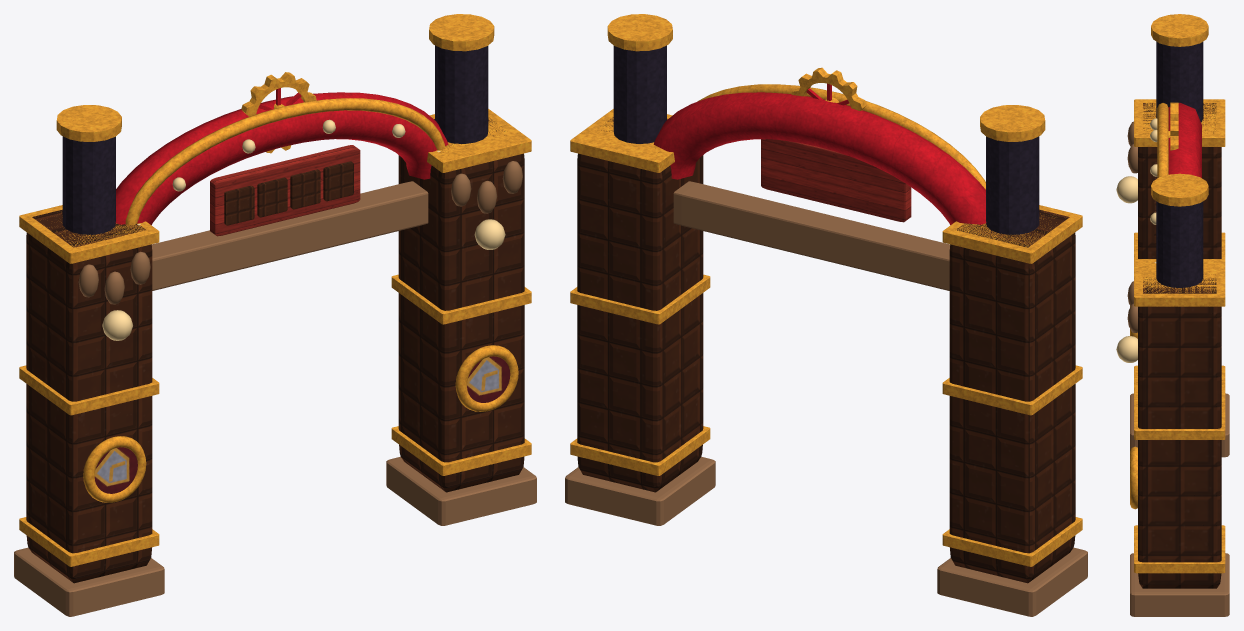
Rendered from CHO_ExitGate.fbx.
The picture shows the model from 3 angles, left to right: view 1: azimuth 30°, elevation 25°; view 2: azimuth 150°, elevation 25°; view 3: azimuth 270°, elevation 25°; orthographic projection. The views are drawn at different scales.
Parts seen in each view (by area): view 1: CHO_ExitGate; view 2: CHO_ExitGate; view 3: CHO_ExitGate.
Part boxes in pixels (<box>): CHO_ExitGate: <box>14,14,536,616</box>; CHO_ExitGate: <box>565,14,1087,616</box>; CHO_ExitGate: <box>1116,14,1229,616</box>.
Size of the model in its own units: 9.1 by 8.64 by 2.16.
